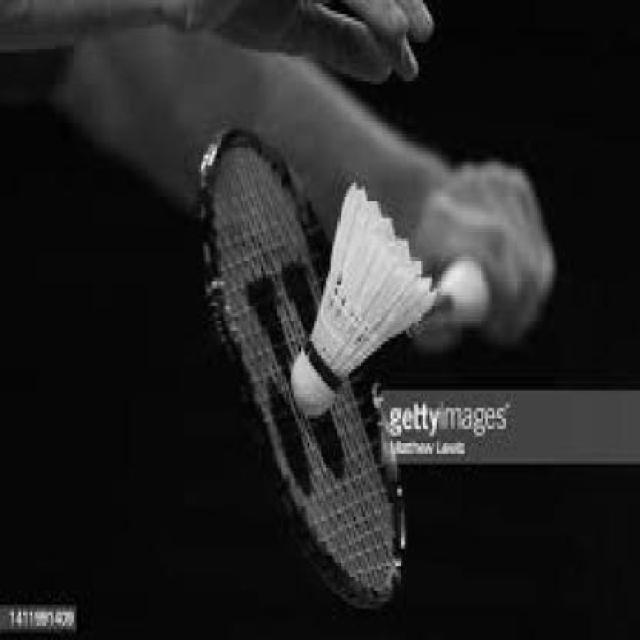Shuttlecock: (291, 179, 435, 423)
